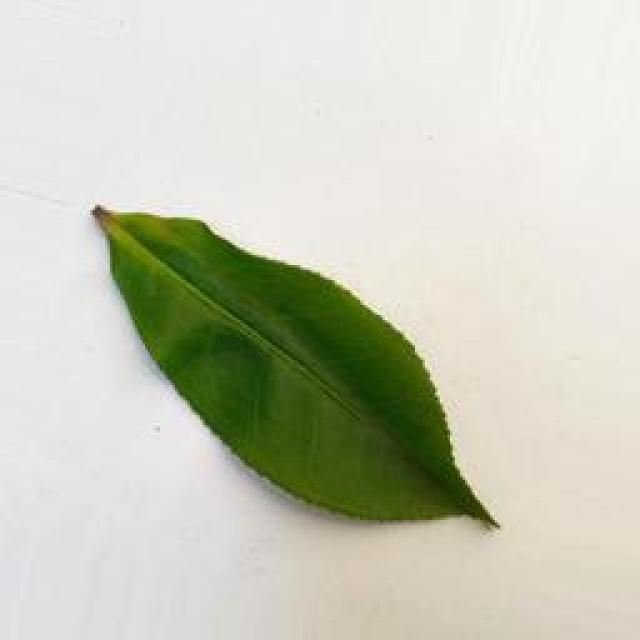Healthy: (80, 191, 506, 533)
